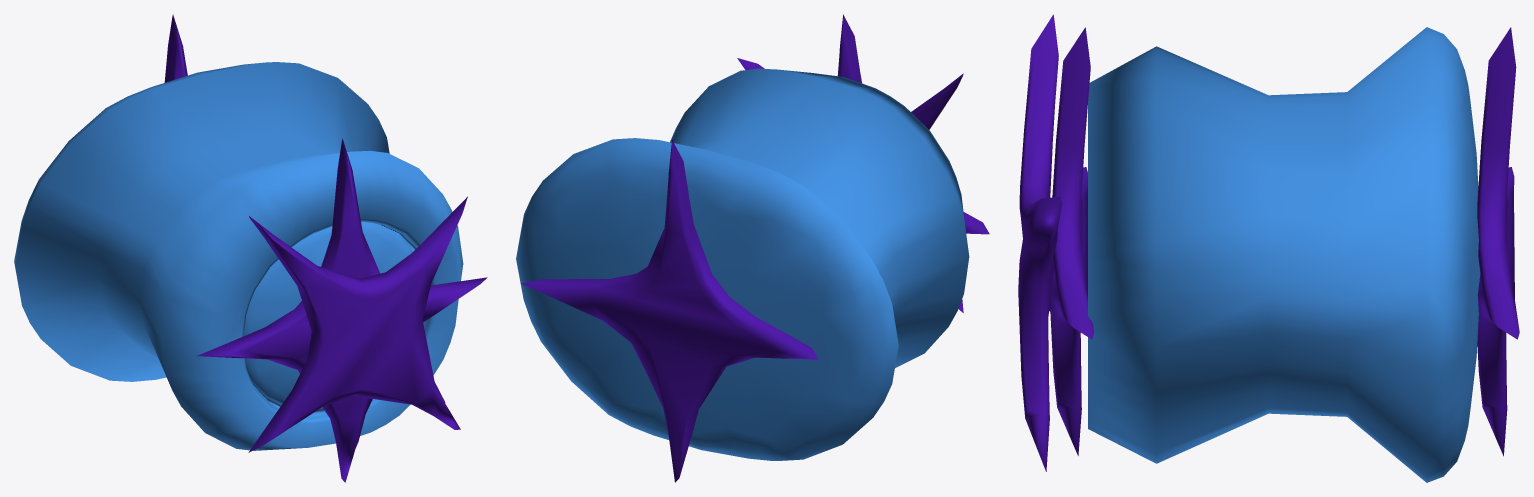
Rendered from ondina.fbx.
3 views of the same model, side by side, from view 1: azimuth 30°, elevation 25°; view 2: azimuth 150°, elevation 25°; view 3: azimuth 270°, elevation 25° (orthographic). The views are drawn at different scales.
Parts seen in each view (by area): view 1: ondina_LOD0; view 2: ondina_LOD0; view 3: ondina_LOD0.
Boxes of the visible parts, bbox=[...] form: ondina_LOD0: bbox=[14, 14, 487, 482]; ondina_LOD0: bbox=[516, 14, 989, 482]; ondina_LOD0: bbox=[1018, 14, 1519, 482].
Size of what is drawn, in the model's own units: 31.8 by 27.56 by 29.13.
